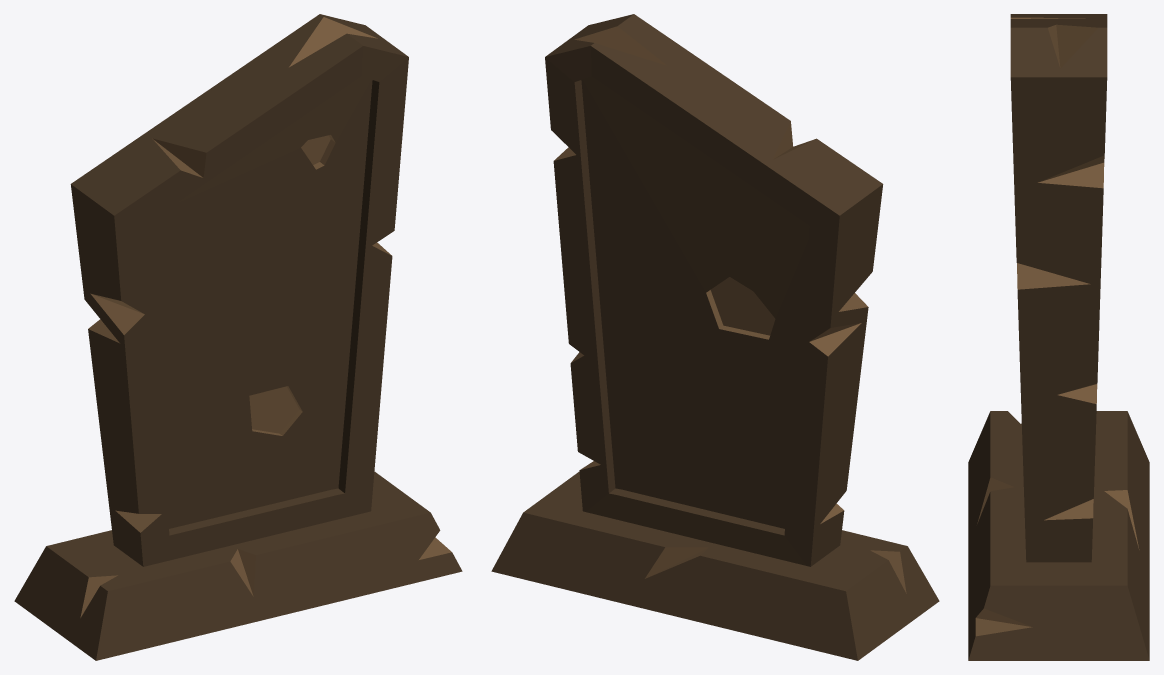
The model's file is Tombstone_3_Brown.fbx.
3 views of the same model, side by side, from view 1: azimuth 30°, elevation 25°; view 2: azimuth 150°, elevation 25°; view 3: azimuth 270°, elevation 25° (orthographic). The views are drawn at different scales.
Parts seen in each view (by area): view 1: Tombstone_3_Brown_Part_1, Tombstone_3_Brown_Part_2; view 2: Tombstone_3_Brown_Part_1, Tombstone_3_Brown_Part_2; view 3: Tombstone_3_Brown_Part_1, Tombstone_3_Brown_Part_2.
Boxes of the visible parts, x1,y1,x2,y2 form: Tombstone_3_Brown_Part_1: [14, 14, 462, 660]; Tombstone_3_Brown_Part_2: [80, 17, 451, 617]; Tombstone_3_Brown_Part_1: [491, 14, 939, 660]; Tombstone_3_Brown_Part_2: [554, 26, 906, 593]; Tombstone_3_Brown_Part_1: [968, 14, 1149, 660]; Tombstone_3_Brown_Part_2: [975, 17, 1139, 636].
Size of the model in its own units: 97.42 by 135 by 37.58.
